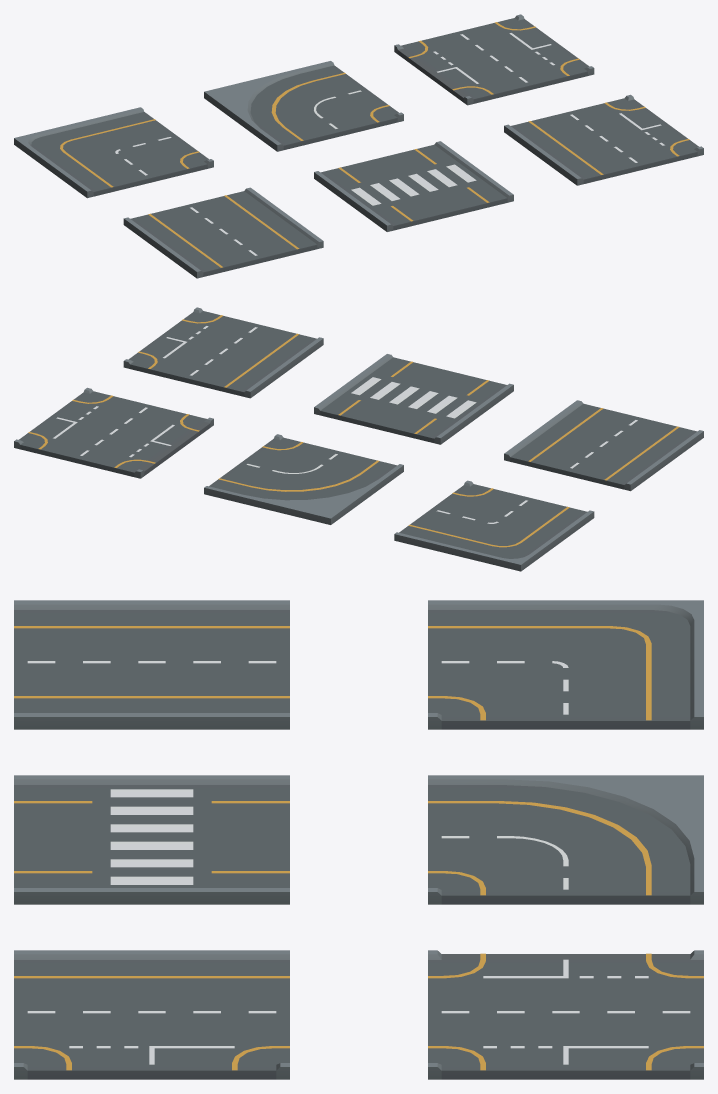
Rendered from campusroad.glb.
3 renders of one model, top to bottom at view 1: azimuth 30°, elevation 25°; view 2: azimuth 150°, elevation 25°; view 3: azimuth 270°, elevation 25°, orthographic. The views are drawn at different scales.
Parts seen in each view (by area): view 1: road_corner, road_corner_curved, road_straight, road_straight_crossing, road_junction, road_tsplit; view 2: road_straight, road_straight_crossing, road_tsplit, road_corner, road_corner_curved, road_junction; view 3: road_corner, road_corner_curved, road_straight, road_straight_crossing, road_tsplit, road_junction.
Boxes of the visible parts, <box> form: road_corner: <box>14,107,213,198</box>; road_corner_curved: <box>204,61,403,151</box>; road_straight: <box>123,187,323,278</box>; road_straight_crossing: <box>314,141,513,231</box>; road_junction: <box>394,14,594,105</box>; road_tsplit: <box>504,94,703,185</box>; road_straight: <box>504,400,703,491</box>; road_straight_crossing: <box>314,354,513,444</box>; road_tsplit: <box>123,307,323,398</box>; road_corner: <box>394,480,594,571</box>; road_corner_curved: <box>204,434,403,524</box>; road_junction: <box>14,387,213,478</box>; road_corner: <box>428,600,703,729</box>; road_corner_curved: <box>428,775,703,904</box>; road_straight: <box>14,600,289,729</box>; road_straight_crossing: <box>14,775,289,904</box>; road_tsplit: <box>14,950,289,1079</box>; road_junction: <box>428,950,703,1079</box>.
Bounding box in the file's own units: 8 × 0.1001 × 5.
Materials: 1 (1 with a texture image).
